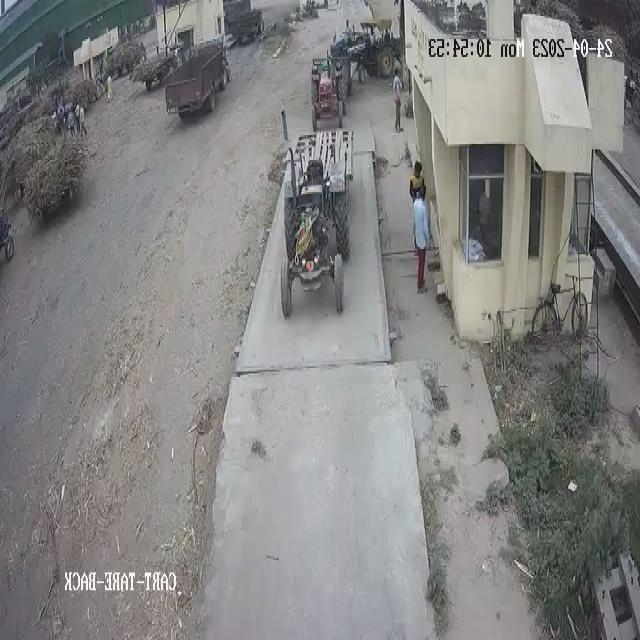Tratores - v5 YOLO V8L 2024-11-13: (277, 160, 360, 324), (312, 54, 355, 128), (362, 11, 398, 84)
